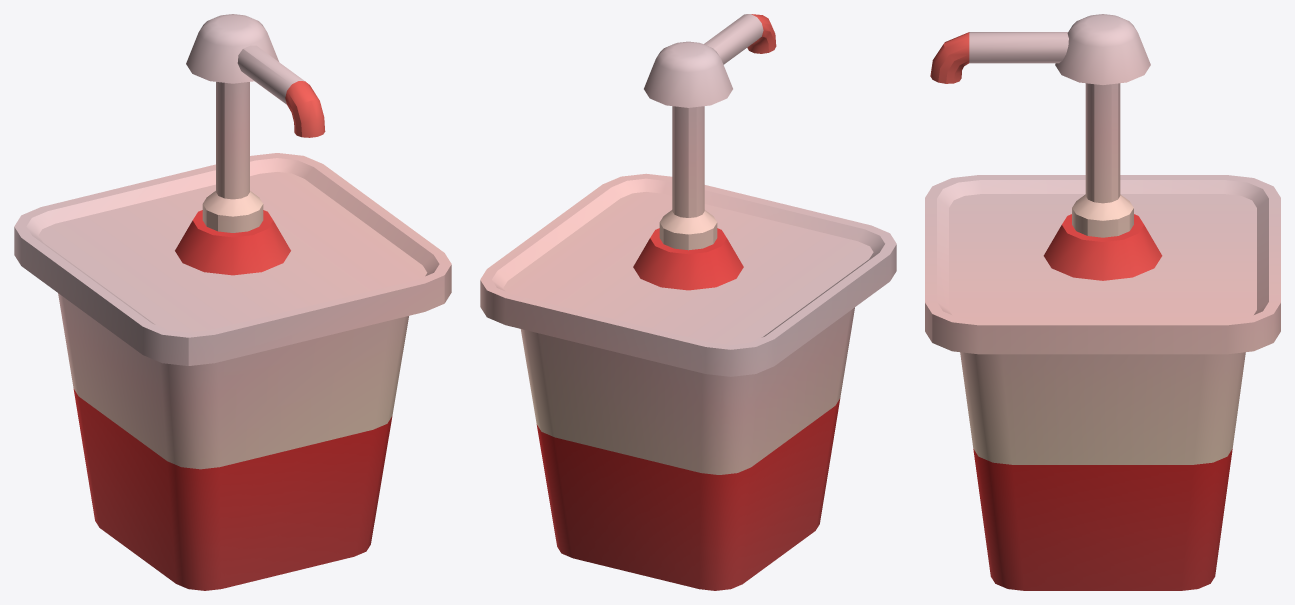
Rendered from Ketchuptube.fbx.
The picture shows the model from 3 angles, left to right: view 1: azimuth 30°, elevation 25°; view 2: azimuth 150°, elevation 25°; view 3: azimuth 270°, elevation 25°; orthographic projection. The views are drawn at different scales.
Parts seen in each view (by area): view 1: ketchup; view 2: ketchup; view 3: ketchup.
Boxes of the visible parts, x1,y1,x2,y2 form: ketchup: [14, 14, 451, 590]; ketchup: [480, 14, 896, 590]; ketchup: [925, 14, 1280, 590].
Size of the model in its own units: 0.4914 by 0.7933 by 0.4914.
